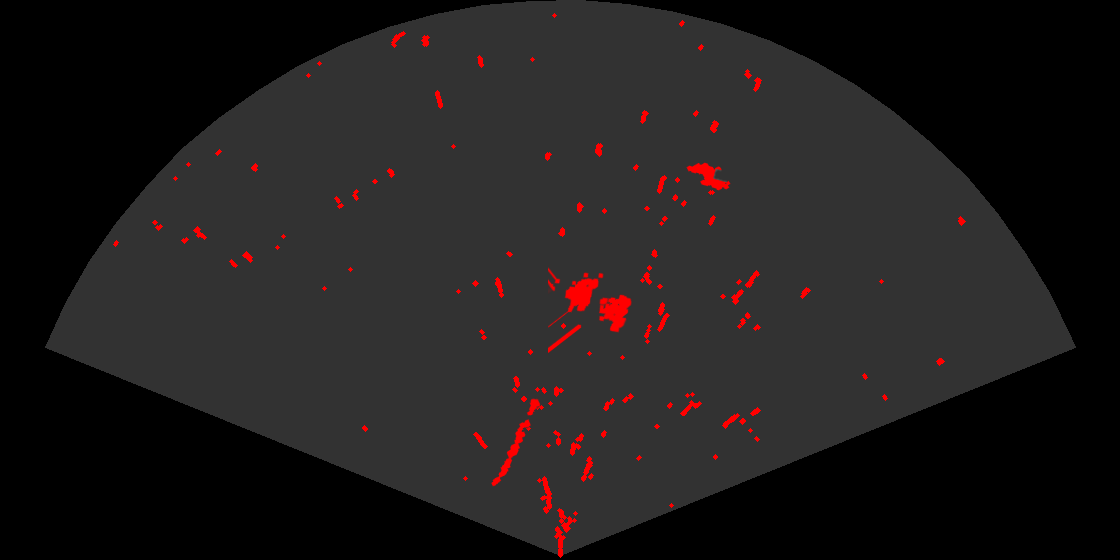AUV: (685, 161, 732, 192)
cage: (548, 266, 633, 355)
chain: (490, 397, 542, 488)
